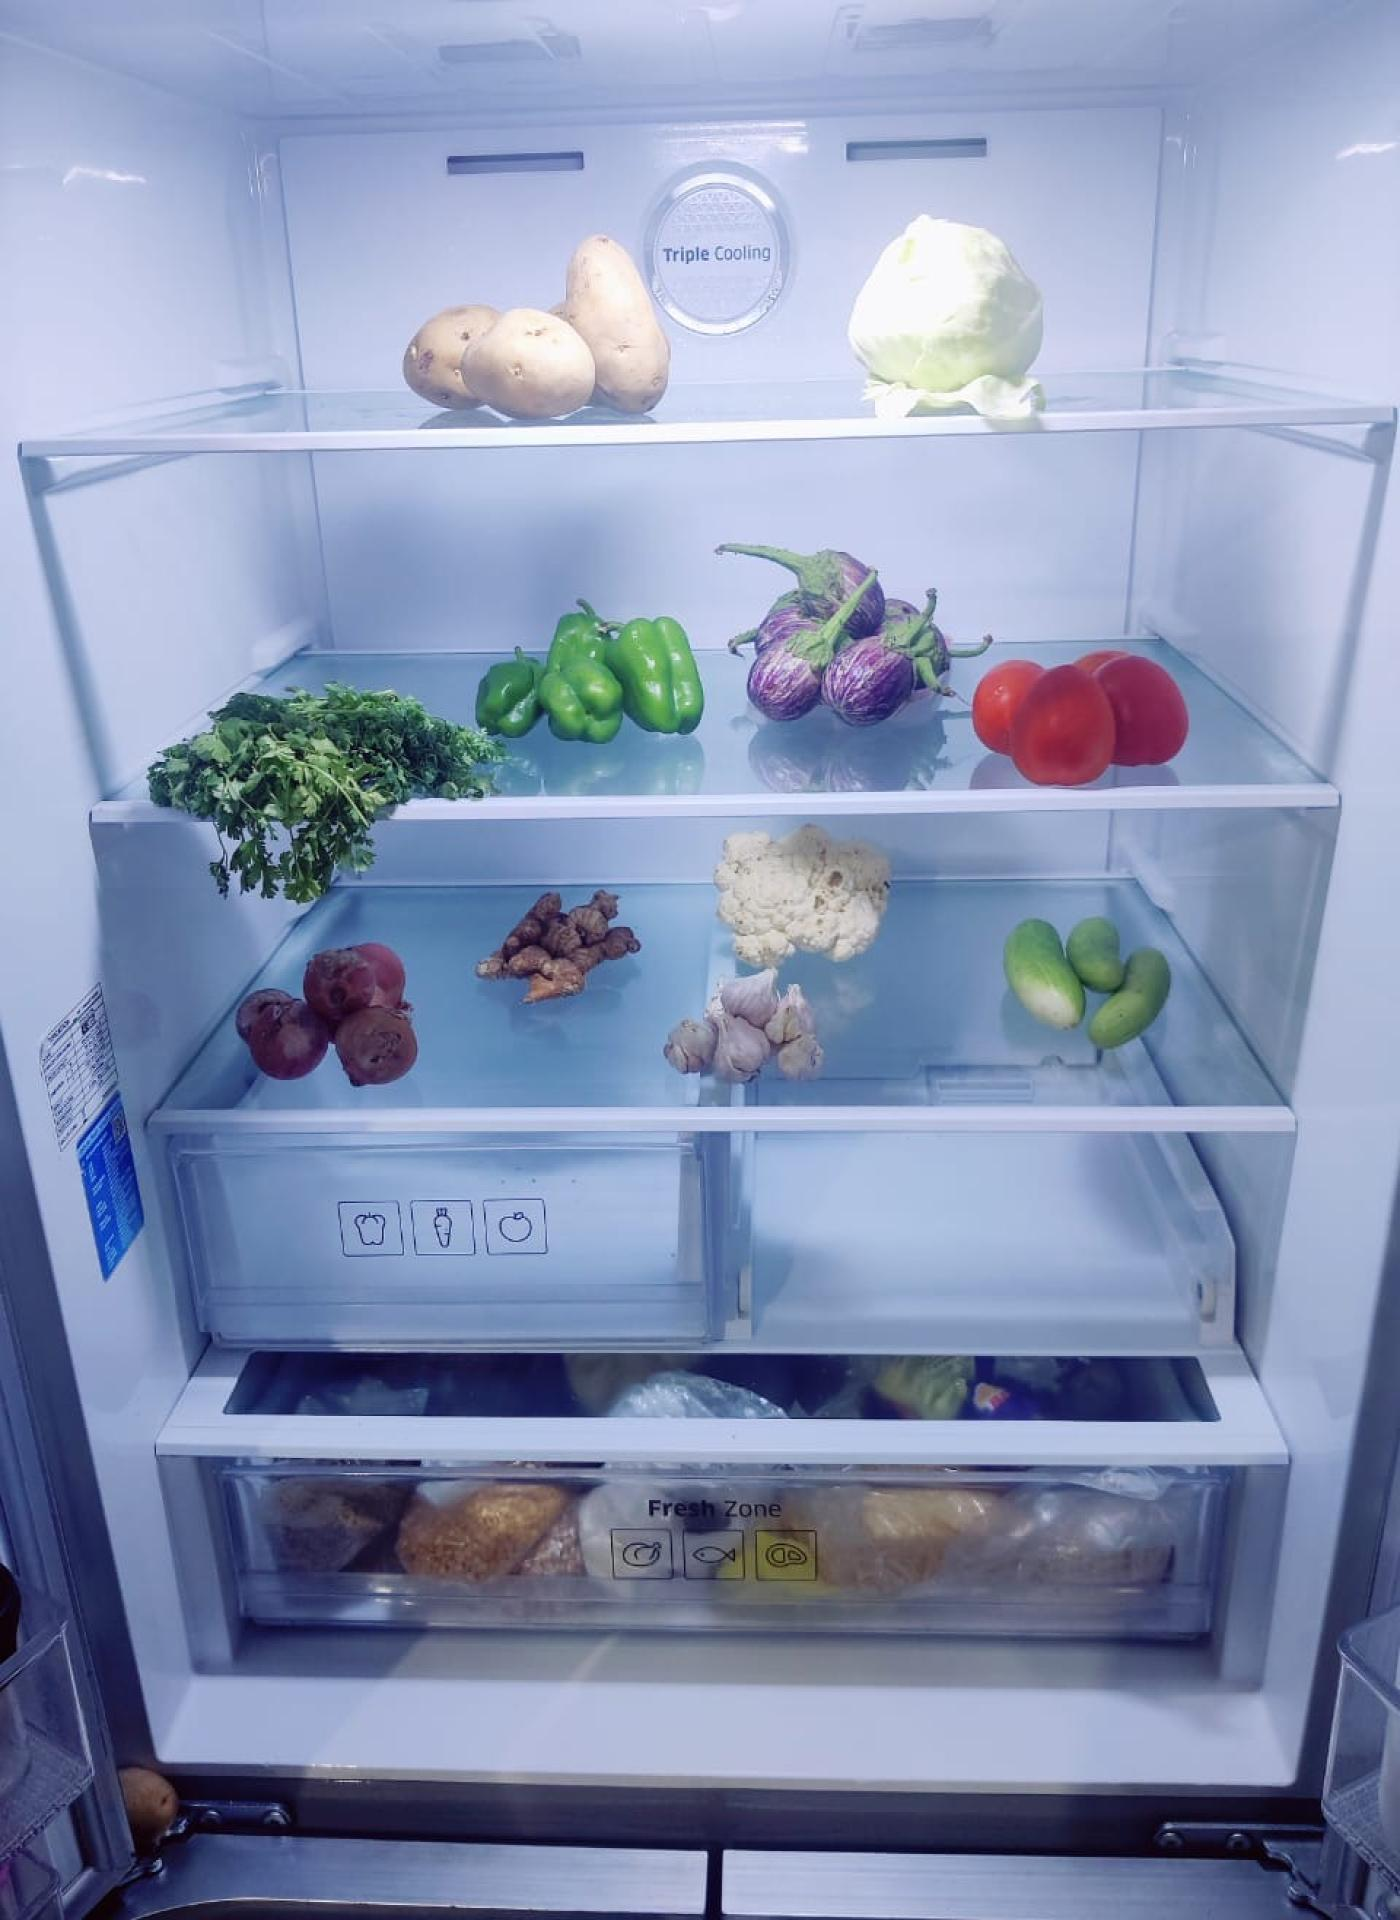brinjal: (740, 537, 944, 719)
cabbage: (845, 213, 1044, 397)
capsicum: (473, 611, 701, 744)
cauliflower: (714, 821, 895, 964)
coriander: (151, 680, 486, 856)
cucumber: (999, 909, 1172, 1051)
garlic: (671, 975, 822, 1079)
ginger: (479, 890, 640, 1000)
onion: (240, 944, 422, 1085)
potato: (409, 243, 675, 423)
tomato: (977, 644, 1197, 781)
